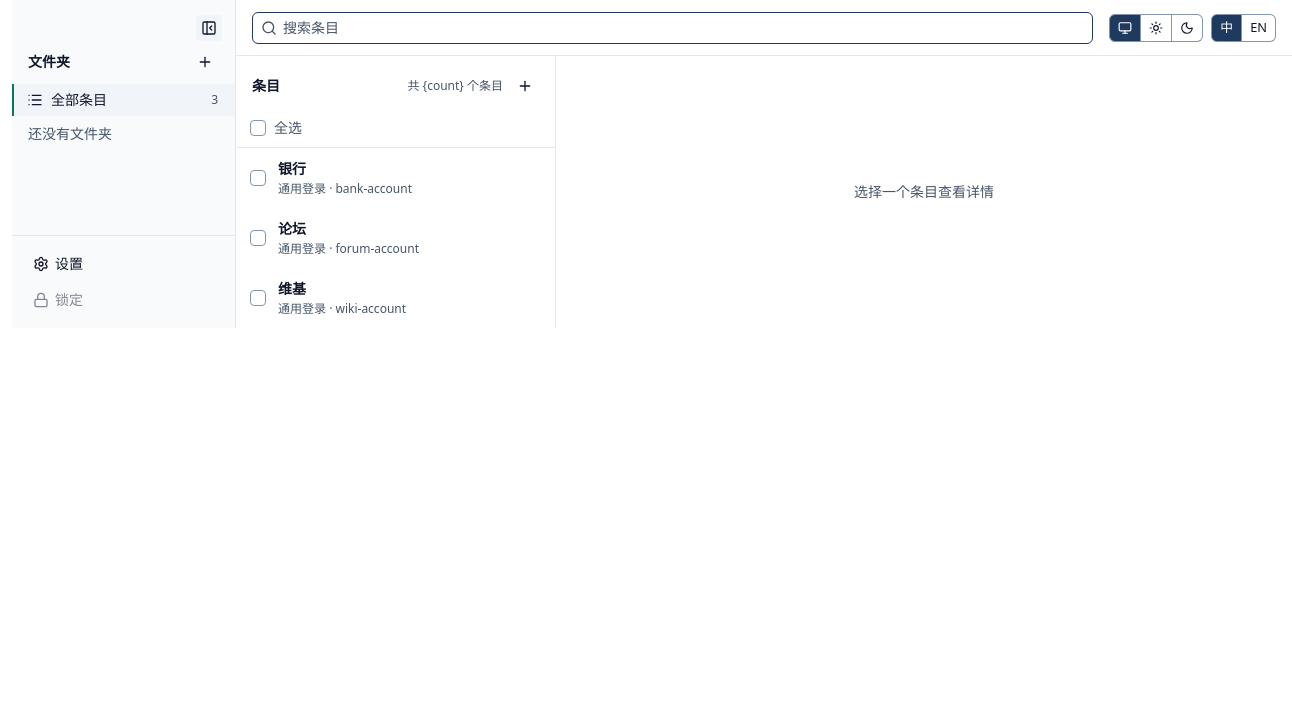
工作区里的附件区 › 给一个条目添加附件后切走再切回来, 附件仍在
Click the button "银行 通用登录 · bank-account". click: [412, 178]
box: [270,148,555,208]
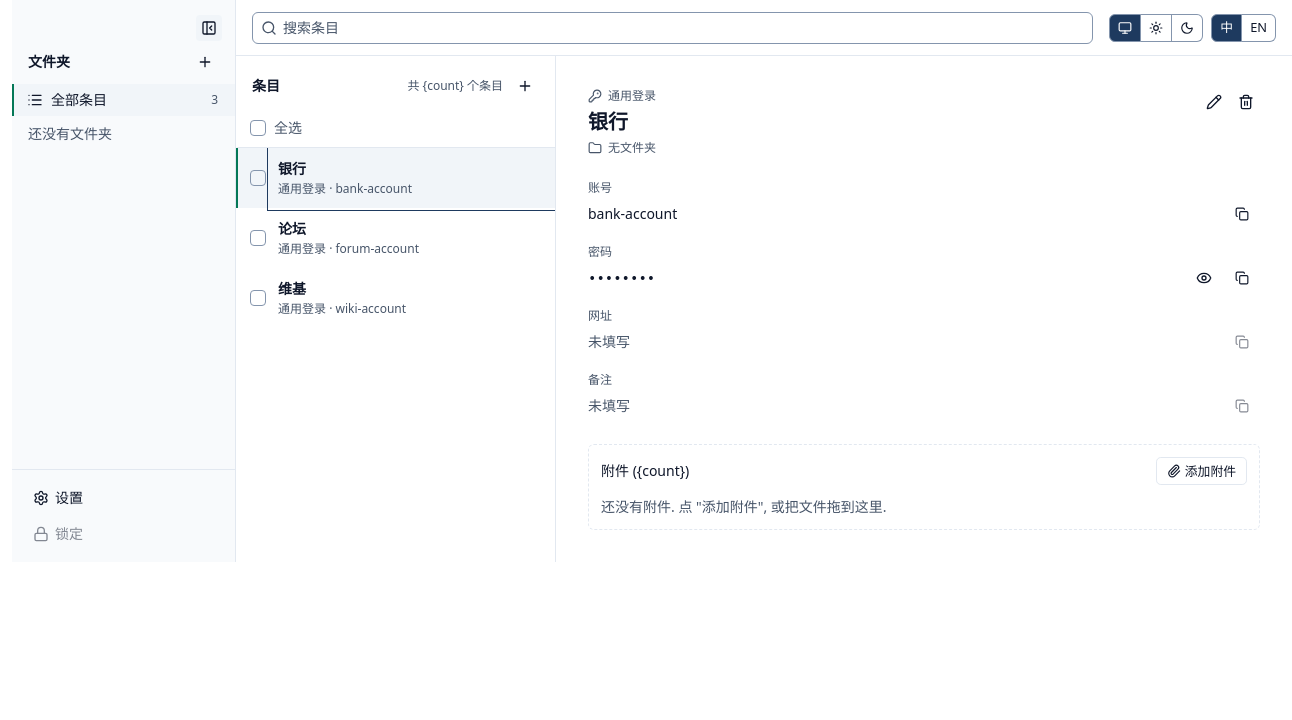
Now the heading "银行" is shown, box [588,108,628,135]
Click the button "添加附件". click: [1201, 471]
box: [1156,457,1247,485]
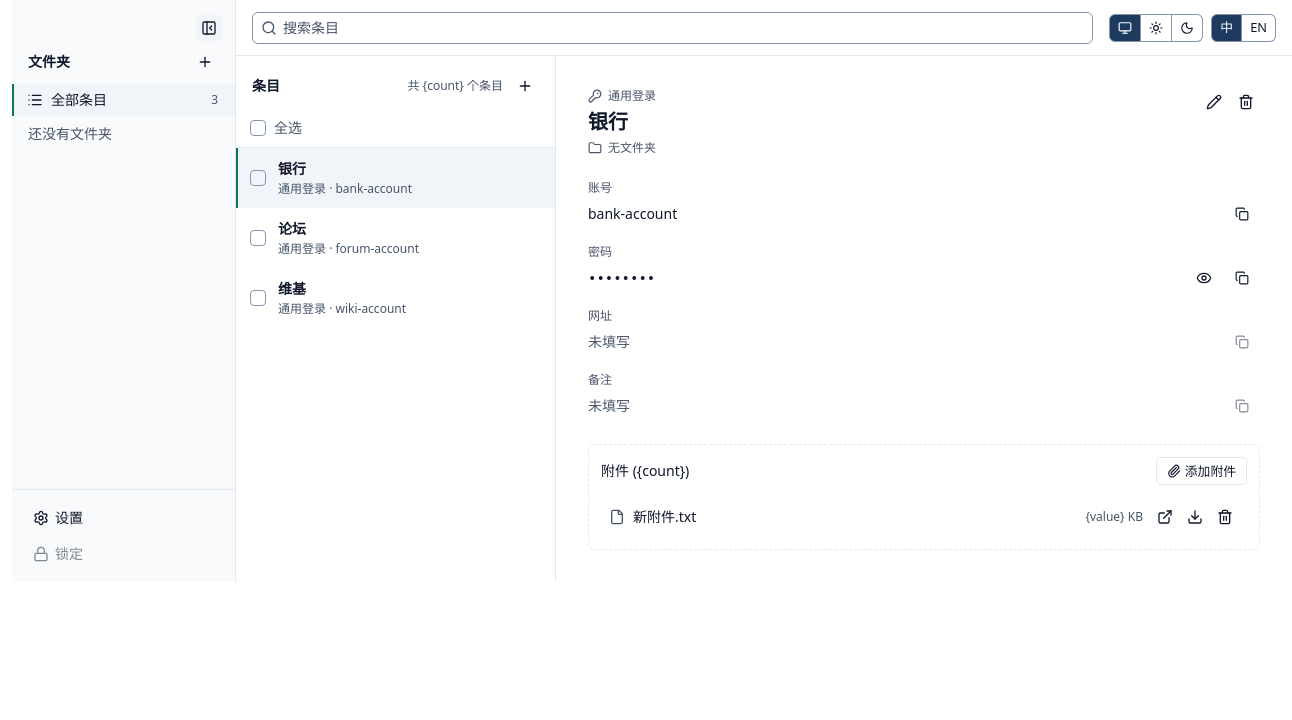
Now the text "新附件.txt" is shown, box [633,507,696,526]
Click the button "论坛 通用登录 · forum-account". click: [412, 238]
box: [270,208,555,268]
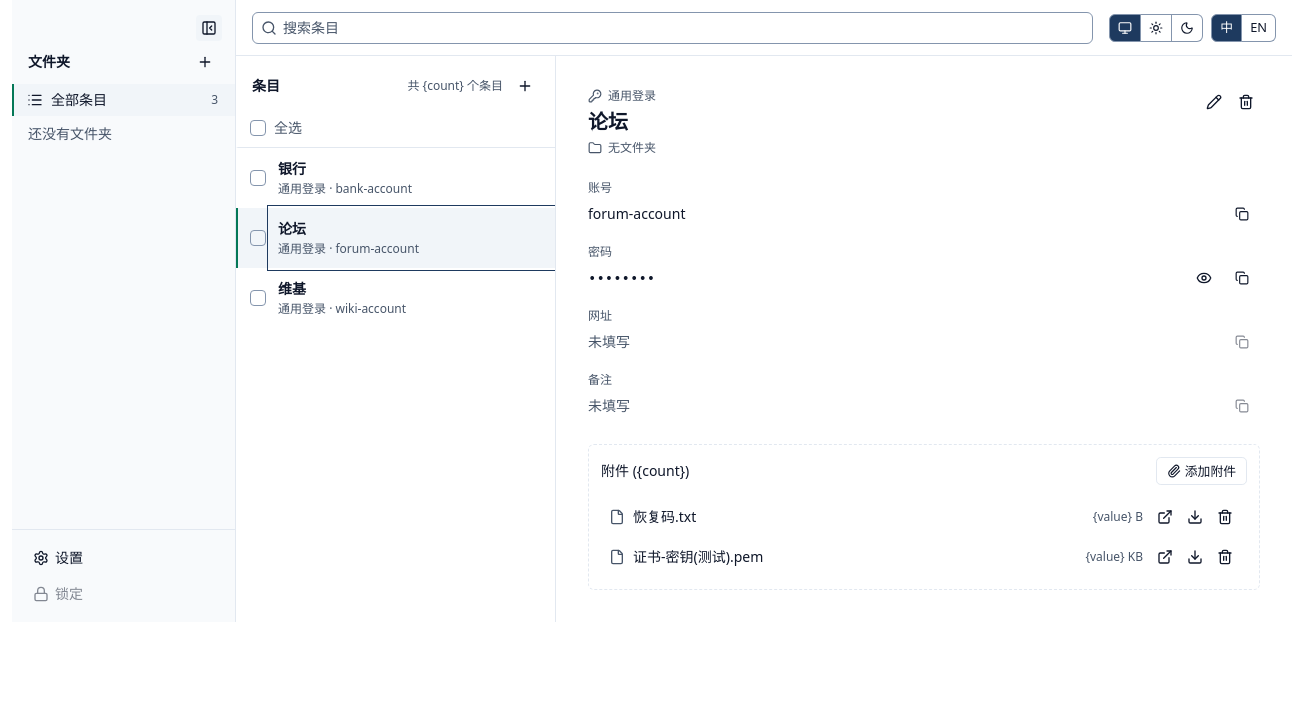
Now the heading "论坛" is shown, box [588,108,628,135]
Click the button "银行 通用登录 · bank-account". click: [412, 178]
box: [270,148,555,208]
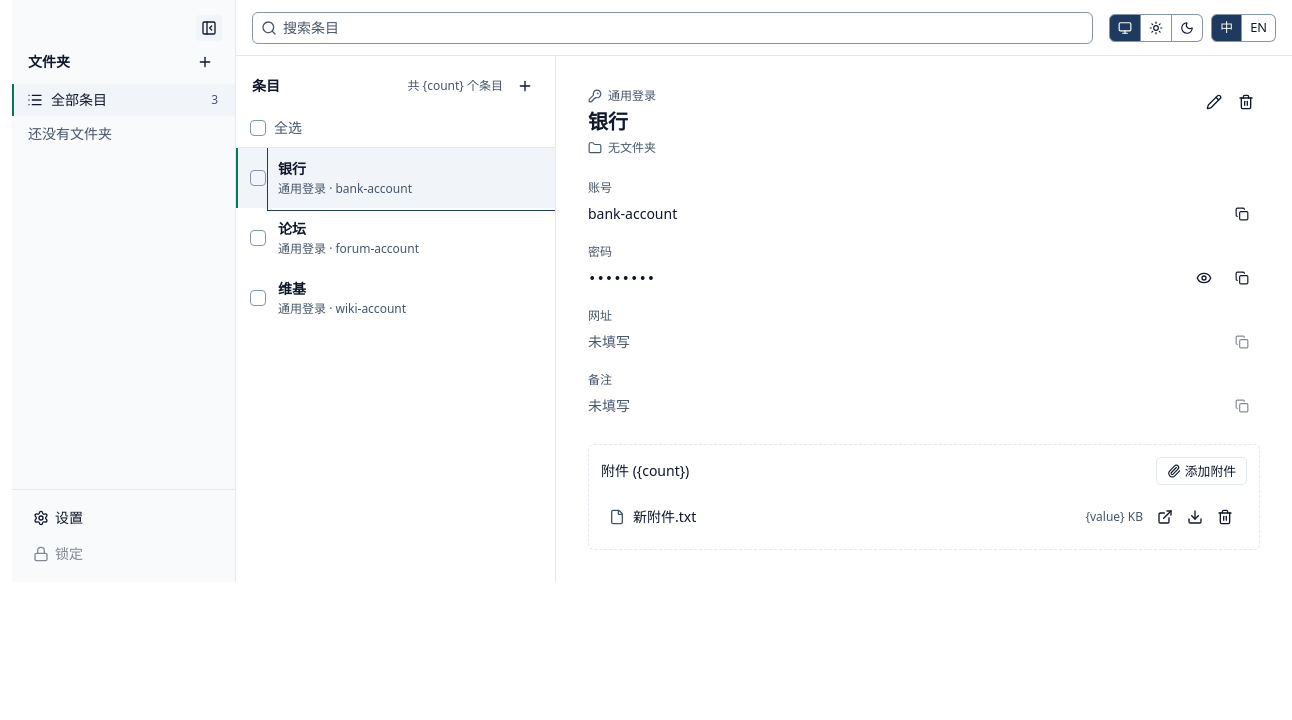
Now the heading "银行" is shown, box [588,108,628,135]
Now the text "新附件.txt" is shown, box [633,507,696,526]
